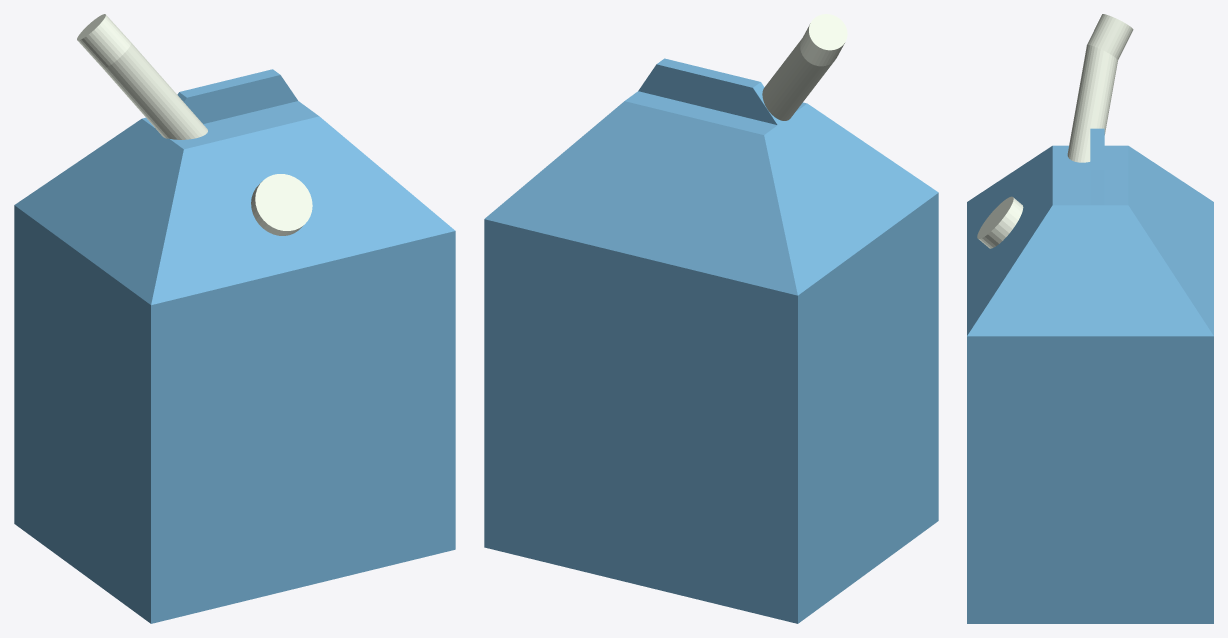
File: MilkBox.fbx
The picture shows the model from 3 angles, left to right: view 1: azimuth 30°, elevation 25°; view 2: azimuth 150°, elevation 25°; view 3: azimuth 270°, elevation 25°; orthographic projection. The views are drawn at different scales.
Visible parts, largest first — view 1: Cylinder.002; view 2: Cylinder.002; view 3: Cylinder.002.
Boxes of the visible parts, x1,y1,x2,y2 form: Cylinder.002: (14,14,455,623); Cylinder.002: (484,14,938,623); Cylinder.002: (967,14,1213,623).
Size of the model in its own units: 0.1084 by 0.1841 by 0.0843.
